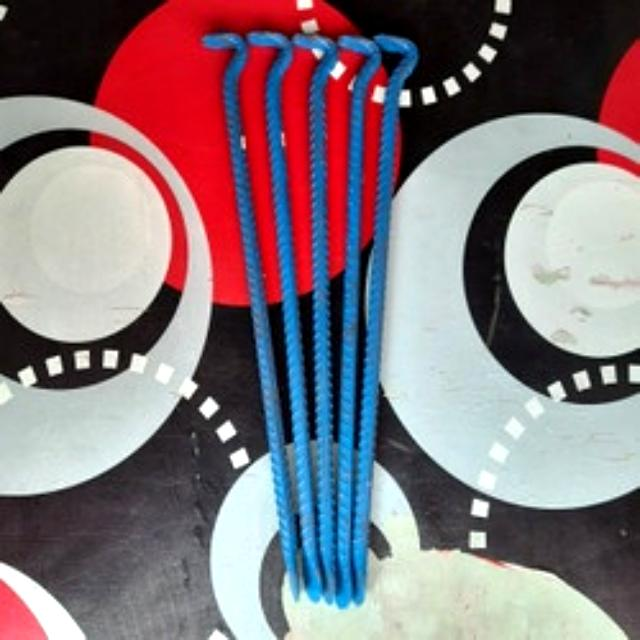crow bar: (202, 31, 304, 601)
